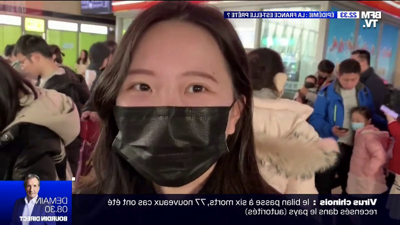with_mask: (113, 66, 231, 188), (349, 116, 365, 133), (303, 79, 315, 90)
without_mask: (16, 51, 37, 81), (338, 74, 360, 90)
